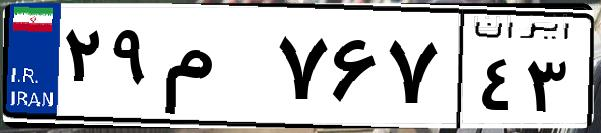2: (57, 26, 110, 100)
3: (525, 38, 570, 115)
4: (475, 38, 525, 113)
6: (330, 28, 385, 110)
7: (270, 28, 330, 110), (385, 28, 445, 110)
9: (110, 28, 158, 98)
م: (158, 20, 270, 120)
